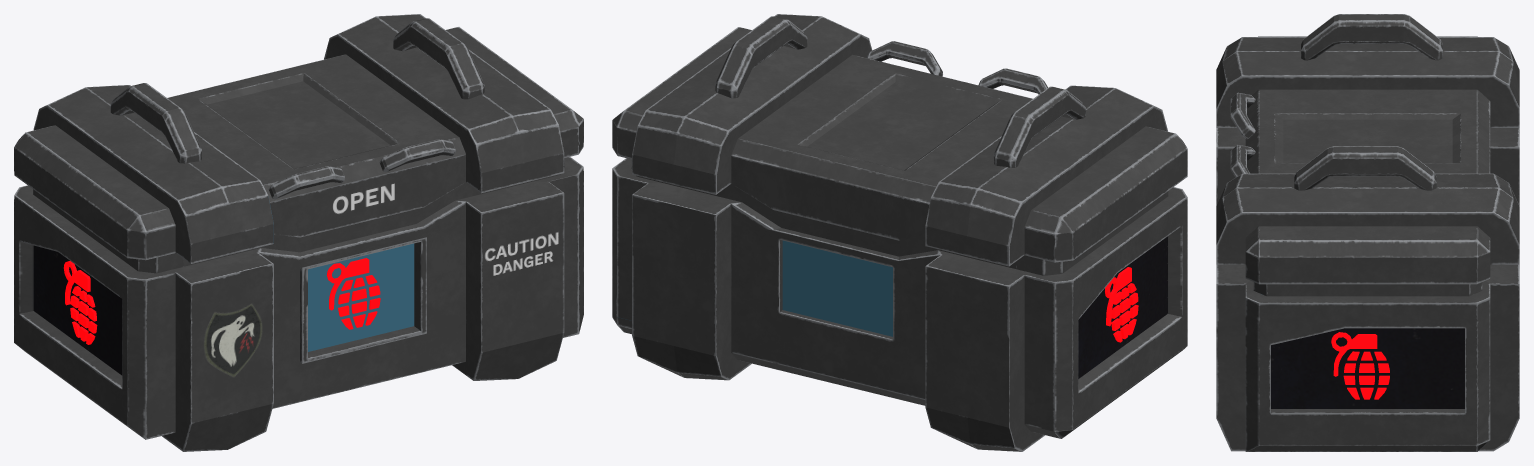
File: Grenade.fbx
The picture shows the model from 3 angles, left to right: view 1: azimuth 30°, elevation 25°; view 2: azimuth 150°, elevation 25°; view 3: azimuth 270°, elevation 25°; orthographic projection. The views are drawn at different scales.
Visible parts, largest first — view 1: Box, Grenade; view 2: Box, Grenade; view 3: Box, Grenade.
Part boxes in pixels (x1,y1,x2,y2): Box: (14, 14, 583, 451); Grenade: (63, 258, 380, 344); Box: (612, 14, 1187, 451); Grenade: (1105, 267, 1138, 342); Box: (1216, 14, 1519, 451); Grenade: (1331, 332, 1389, 399).
Size of the model in its own units: 334 by 207 by 199.
4 materials, 1 textured.
